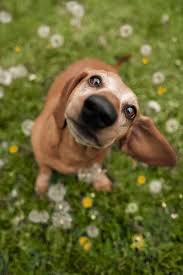dog: (29, 55, 174, 194)
